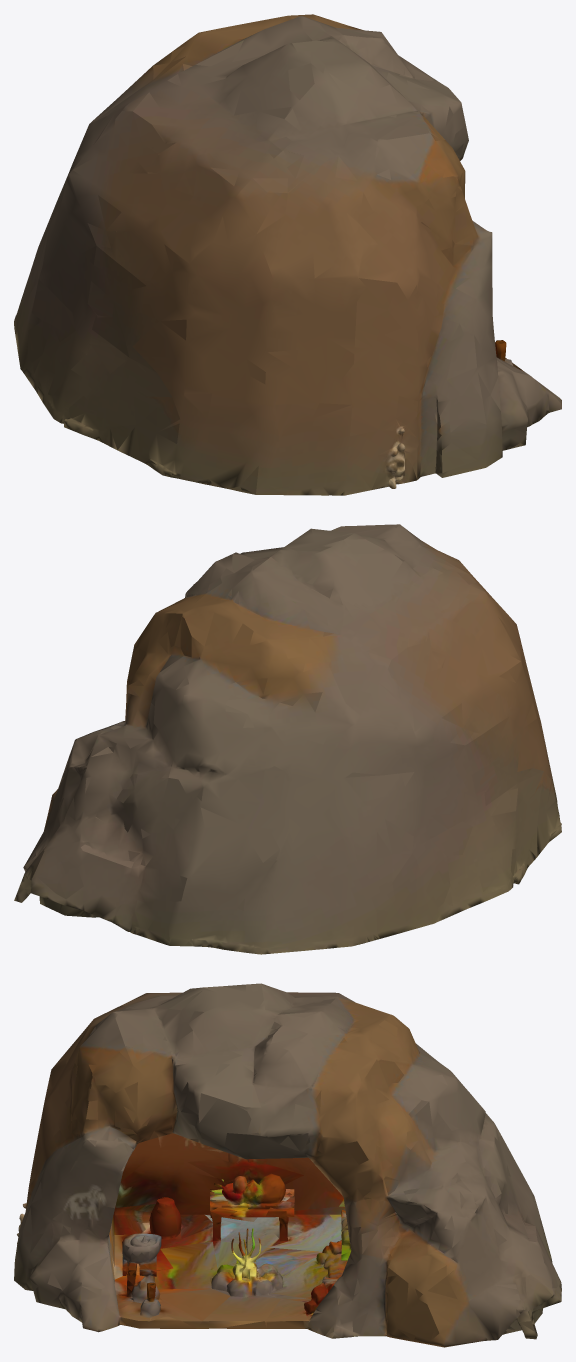
Rendered from StoneAgeCave.fbx.
3 views of the same model, one above another, from view 1: azimuth 30°, elevation 25°; view 2: azimuth 150°, elevation 25°; view 3: azimuth 270°, elevation 25° (orthographic). The views are drawn at different scales.
Visible parts, largest first — view 1: tripo_node_cc24c0fd; view 2: tripo_node_cc24c0fd; view 3: tripo_node_cc24c0fd.
Boxes of the visible parts, x1=… form: tripo_node_cc24c0fd: x1=14, y1=14, x2=561, y2=495; tripo_node_cc24c0fd: x1=14, y1=524, x2=561, y2=954; tripo_node_cc24c0fd: x1=14, y1=983, x2=561, y2=1347.
Size of the model in its own units: 72.22 by 52.16 by 92.32.
Materials: 1 (1 with a texture image).
